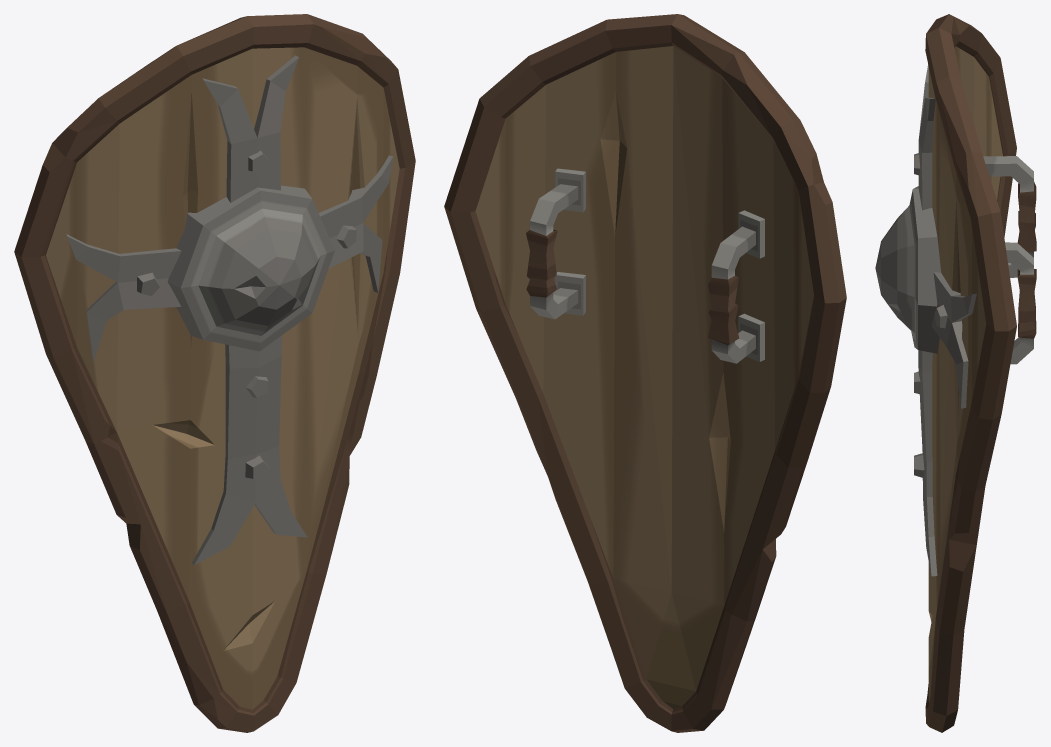
The model's file is SM_Wep_Shield_01.fbx.
The picture shows the model from 3 angles, left to right: view 1: azimuth 30°, elevation 25°; view 2: azimuth 150°, elevation 25°; view 3: azimuth 270°, elevation 25°; orthographic projection. The views are drawn at different scales.
Visible parts, largest first — view 1: SM_Wep_Shield_01; view 2: SM_Wep_Shield_01; view 3: SM_Wep_Shield_01.
Boxes of the visible parts, x1,y1,x2,y2 form: SM_Wep_Shield_01: [14, 14, 415, 732]; SM_Wep_Shield_01: [444, 14, 846, 732]; SM_Wep_Shield_01: [875, 14, 1036, 732].
Bounding box in the file's own units: 68.8 × 120 × 24.89.
